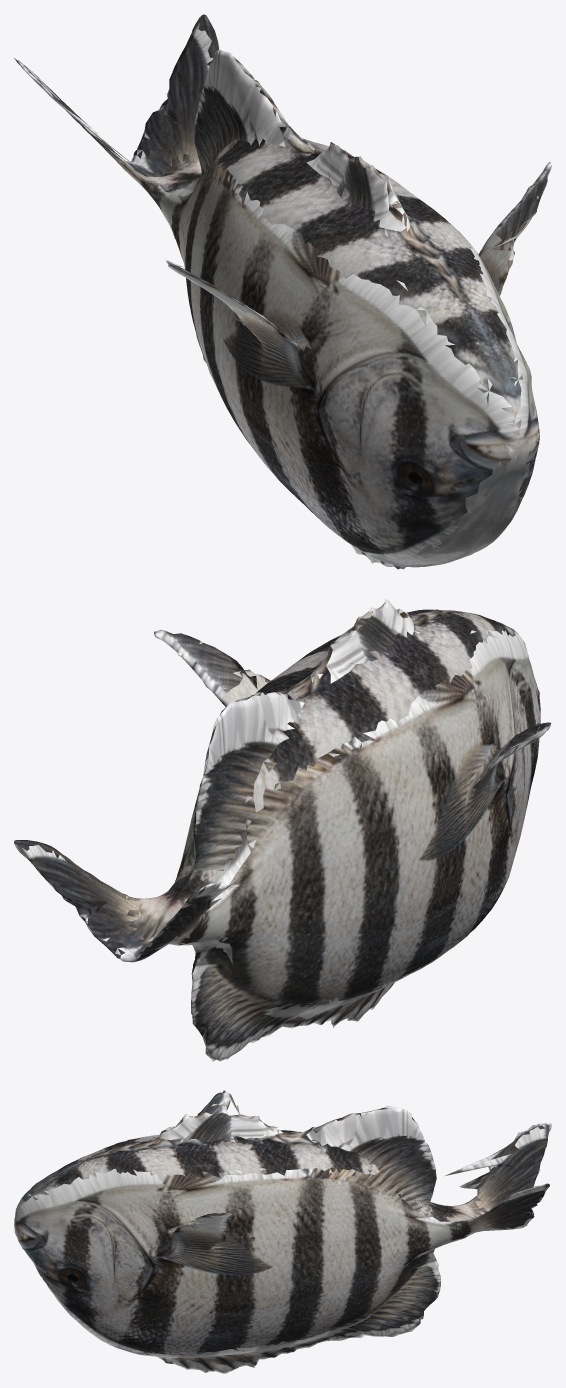
File: fish_knifejaw.glb
3 renders of one model, top to bottom at view 1: azimuth 30°, elevation 25°; view 2: azimuth 150°, elevation 25°; view 3: azimuth 270°, elevation 25°, orthographic. The views are drawn at different scales.
Visible parts, largest first — view 1: orient; view 2: orient; view 3: orient.
Part boxes in pixels (x1,y1,x2,y2): orient: (14, 14, 551, 569); orient: (14, 598, 551, 1061); orient: (14, 1090, 551, 1373).
Bounding box in the file's own units: 1.06 × 1.07 × 1.94.
1 material, 1 textured.
